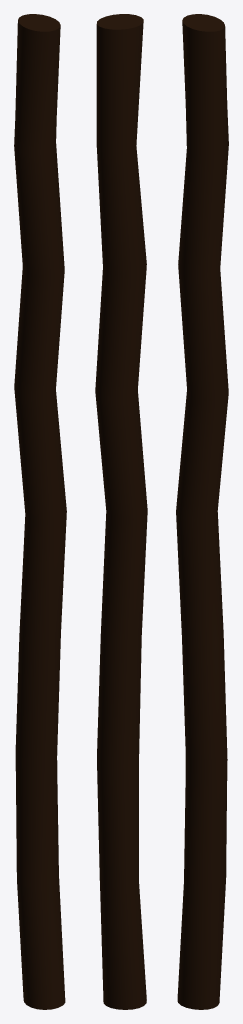
Rendered from Wood_Poles.FBX.
3 views of the same model, side by side, from view 1: azimuth 90°, elevation 25°; view 2: azimuth 150°, elevation 25°; view 3: azimuth 270°, elevation 25° (orthographic).
Parts seen in each view (by area): view 1: Object002; view 2: Object002; view 3: Object002.
Part boxes in pixels (x1=…): Object002: x1=14, y1=14, x2=66, y2=1009; Object002: x1=95, y1=14, x2=147, y2=1009; Object002: x1=176, y1=14, x2=228, y2=1009.
Size of the model in its own units: 7.66 by 169 by 8.29.
